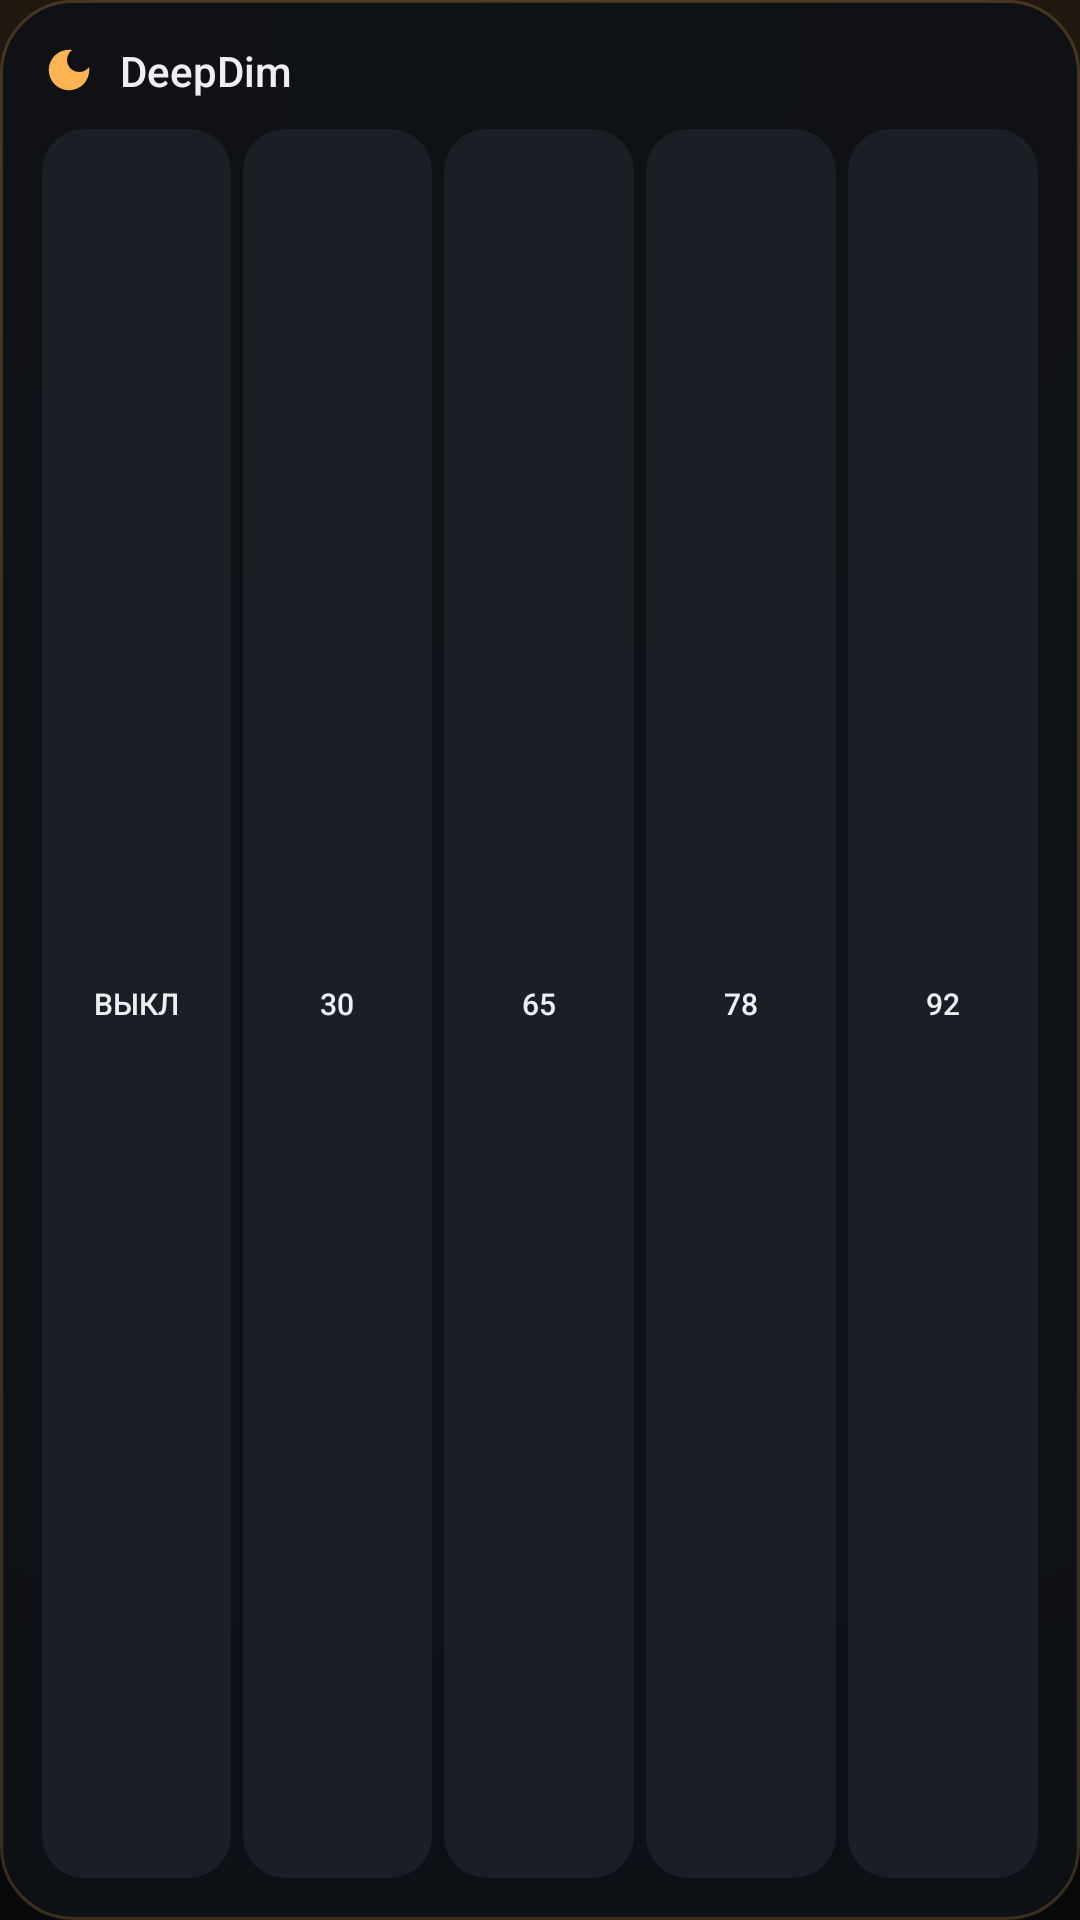

Icon bounding boxes for this 1080 × 1920 phone screenshot, format box(x1, y1, x2, y2):
moon: box(48, 49, 90, 91)
